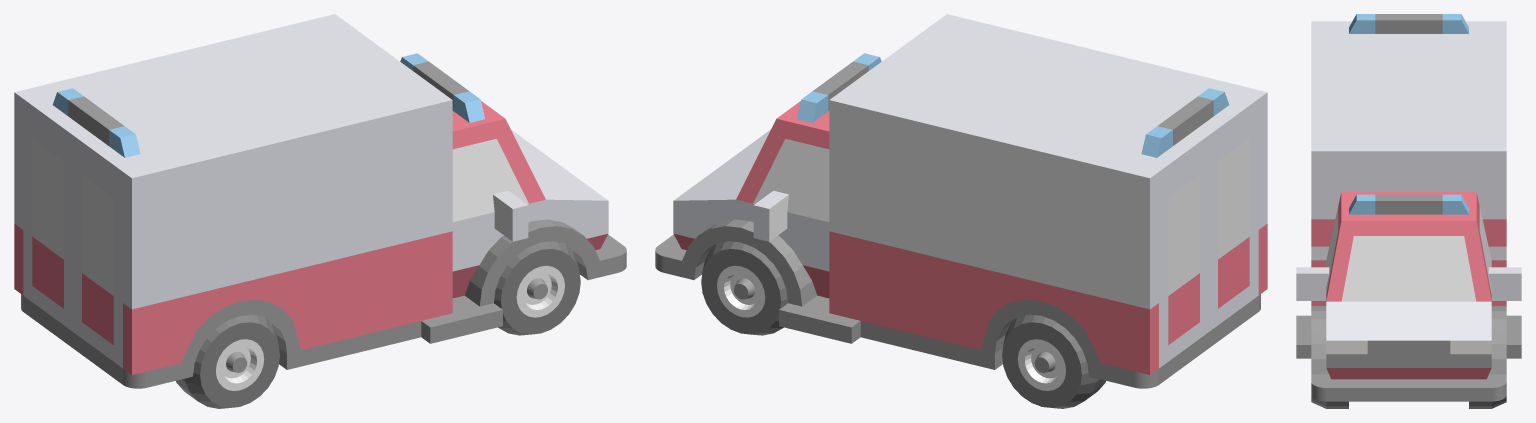
The model's file is Ambulance.dae.
The picture shows the model from 3 angles, left to right: view 1: azimuth 30°, elevation 25°; view 2: azimuth 150°, elevation 25°; view 3: azimuth 270°, elevation 25°; orthographic projection. The views are drawn at different scales.
Visible parts, largest first — view 1: body, doorRight, doorLeft, wheel_backLeft, wheel_frontLeft; view 2: body, doorLeft, doorRight, wheel_backRight, wheel_frontRight; view 3: body, wheel_frontRight, wheel_frontLeft.
Part boxes in pixels (left/top/right/bottom): body: left=14, top=14, right=626, bottom=388; doorRight: left=23, top=115, right=72, bottom=331; doorLeft: left=73, top=152, right=122, bottom=368; wheel_backLeft: left=176, top=314, right=279, bottom=408; wheel_frontLeft: left=494, top=241, right=580, bottom=335; body: left=655, top=14, right=1267, bottom=388; doorLeft: left=1209, top=115, right=1258, bottom=331; doorRight: left=1159, top=152, right=1208, bottom=368; wheel_backRight: left=1002, top=314, right=1105, bottom=408; wheel_frontRight: left=701, top=241, right=787, bottom=335; body: left=1296, top=14, right=1521, bottom=401; wheel_frontRight: left=1469, top=396, right=1506, bottom=408; wheel_frontLeft: left=1311, top=396, right=1348, bottom=408.
Bounding box in the file's own units: 1.88 × 0.8826 × 1.
